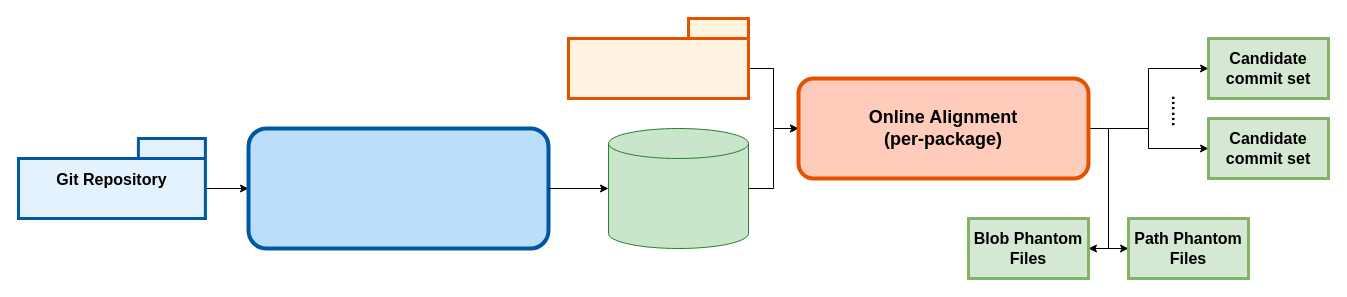
The diagram is 1347 pixels wide and 297 high, and some of its shapes have lost their labels. The centre of each missing label's shape, as x and y in pixels:
"Compressed Inverted Index ( RocksDB)" belongs at (678,188).
"Offline Preprocessing (once per repo)" belongs at (398,188).
"Source Distribution" belongs at (658,58).
